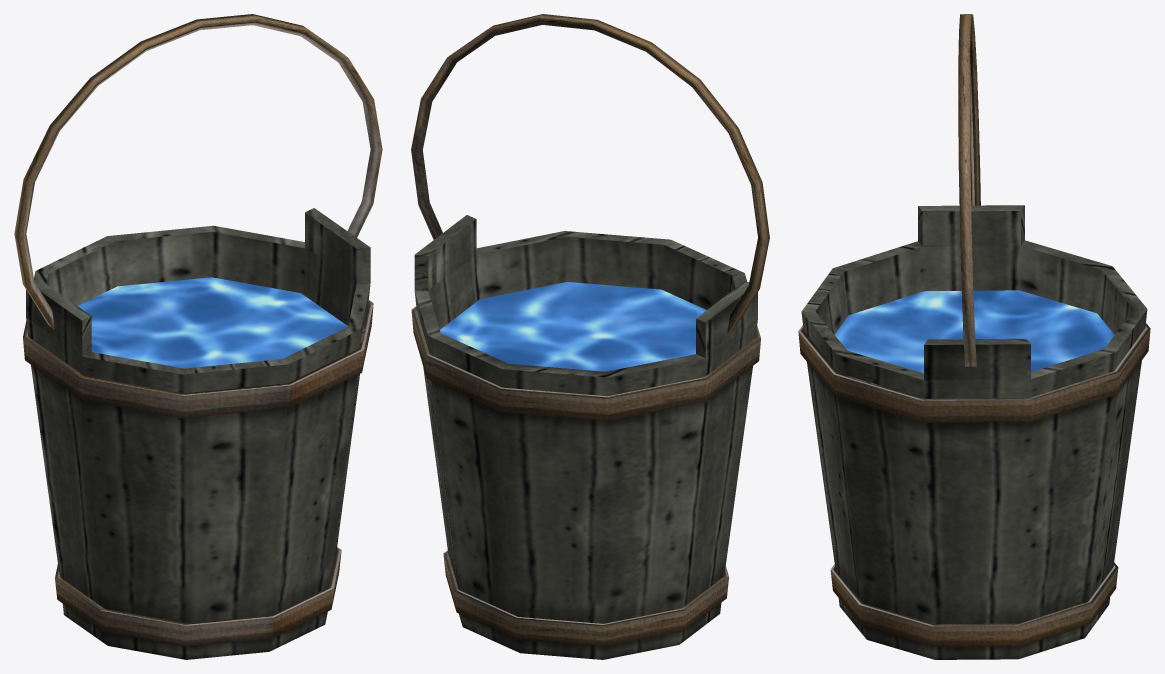
The model's file is djBucket1Wwater.obj.
3 views of the same model, side by side, from view 1: azimuth 30°, elevation 25°; view 2: azimuth 150°, elevation 25°; view 3: azimuth 270°, elevation 25° (orthographic). The views are drawn at different scales.
Parts seen in each view (by area): view 1: group8 polySurface1 polySurface3, polySurface2 group8 polySurface1; view 2: group8 polySurface1 polySurface3, polySurface2 group8 polySurface1; view 3: group8 polySurface1 polySurface3, polySurface2 group8 polySurface1.
Part boxes in pixels (x1,y1,x2,y2): group8 polySurface1 polySurface3: (14, 14, 382, 659); polySurface2 group8 polySurface1: (77, 277, 347, 368); group8 polySurface1 polySurface3: (411, 14, 769, 659); polySurface2 group8 polySurface1: (440, 282, 706, 371); group8 polySurface1 polySurface3: (798, 14, 1150, 659); polySurface2 group8 polySurface1: (834, 290, 1114, 373).
Bounding box in the file's own units: 0.4481 × 0.6959 × 0.3883.
2 materials, 2 textured.
